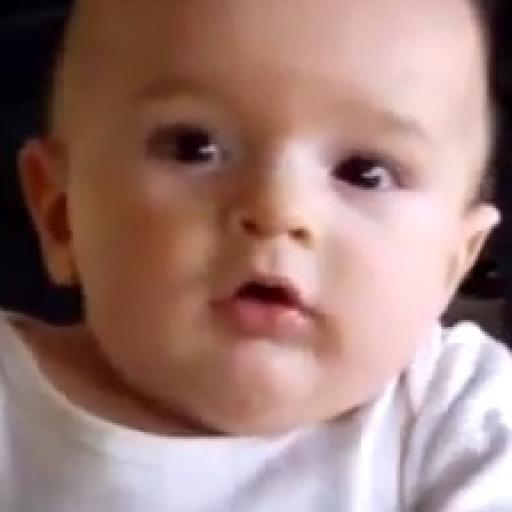Autism: (43, 0, 512, 453)
